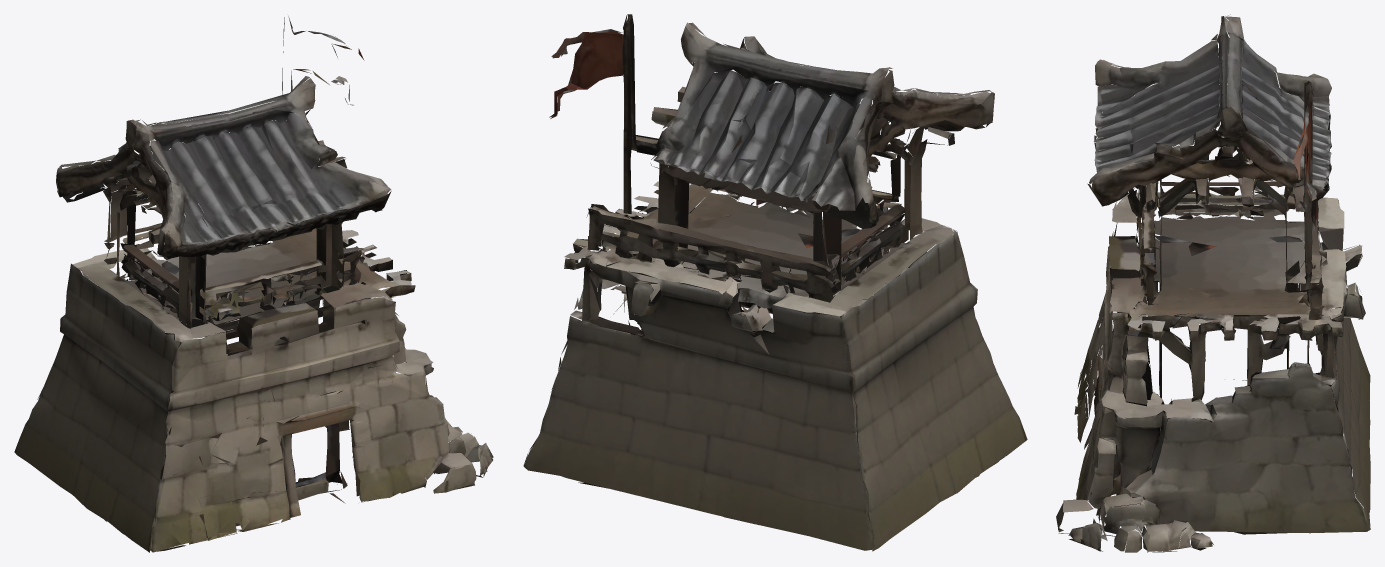
File: siegeTower.glb
3 views of the same model, side by side, from view 1: azimuth 30°, elevation 25°; view 2: azimuth 150°, elevation 25°; view 3: azimuth 270°, elevation 25° (orthographic). The views are drawn at different scales.
Parts seen in each view (by area): view 1: Prop_siegeTower; view 2: Prop_siegeTower; view 3: Prop_siegeTower.
Boxes of the visible parts, <box> form: Prop_siegeTower: <box>14,16,493,552</box>; Prop_siegeTower: <box>523,14,1027,551</box>; Prop_siegeTower: <box>1056,14,1370,552</box>.
Size of the model in its own units: 6.48 by 7.02 by 4.76.
Materials: 1 (1 with a texture image).
